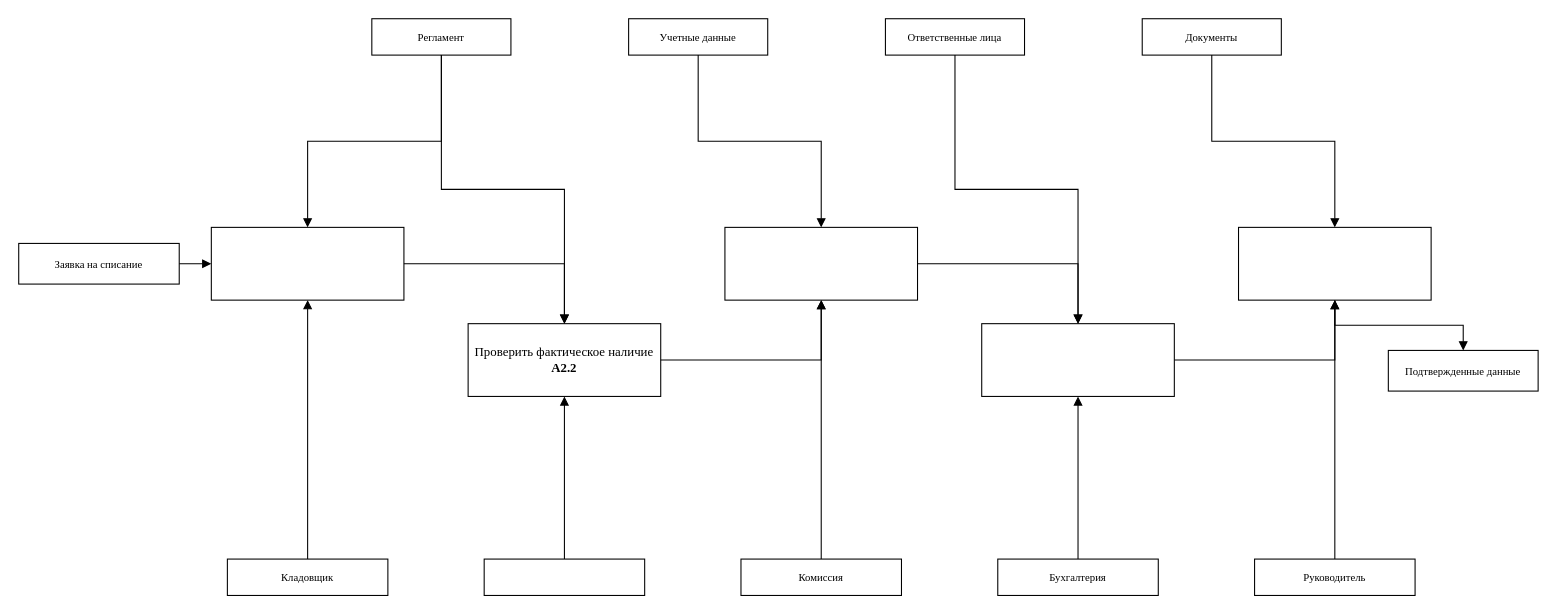
The diagram is 1557 pixels wide and 614 high, and some of its shapes have lost their labels. The box of each missing label's shape, as (x1, y1, x2, y2) in pixels:
WMS/1C: (483, 558, 645, 595)
Зафиксировать причину A2.3: (724, 226, 918, 300)
Назначить комиссию A2.1: (210, 226, 404, 300)
Передать на согласование A2.5: (1237, 226, 1431, 300)
Составить ведомость A2.4: (981, 323, 1174, 396)
